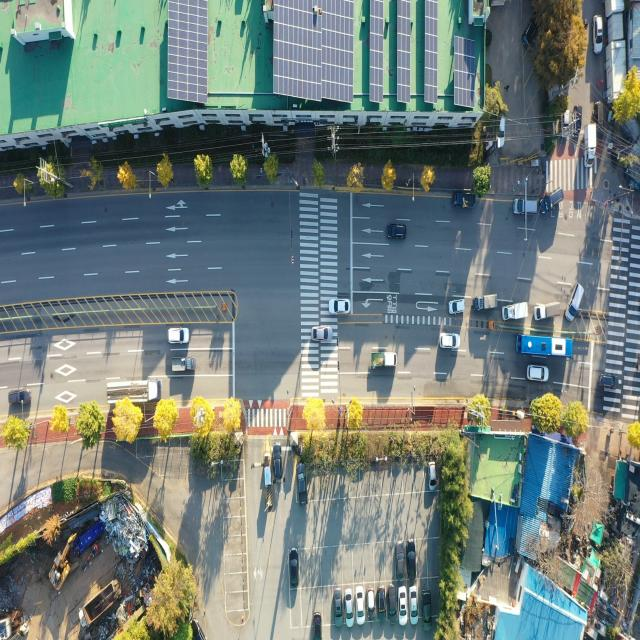car: (540, 186, 566, 218), (566, 280, 585, 323), (522, 16, 538, 50), (296, 462, 308, 506), (512, 197, 537, 218), (495, 111, 506, 151), (406, 540, 416, 582), (592, 11, 602, 52), (595, 102, 605, 142), (333, 586, 343, 626), (395, 541, 405, 579), (421, 588, 430, 630), (345, 589, 355, 626), (376, 585, 386, 622), (327, 300, 350, 316), (311, 326, 337, 340), (169, 326, 189, 344), (290, 550, 299, 588), (386, 222, 406, 239), (528, 364, 548, 381), (440, 334, 460, 351), (273, 442, 282, 479), (8, 389, 28, 405), (572, 104, 582, 136), (388, 584, 396, 622), (398, 587, 406, 624), (356, 587, 364, 624), (366, 588, 375, 620), (429, 458, 437, 492), (411, 588, 418, 624), (561, 110, 570, 138), (450, 301, 465, 315), (314, 614, 322, 640), (600, 376, 616, 389)
large_bus: (516, 336, 574, 358)
medium_truck: (105, 374, 161, 406)
small_truck: (170, 353, 198, 375), (584, 118, 595, 172), (367, 350, 395, 370), (503, 301, 528, 323), (535, 301, 560, 323), (473, 293, 498, 313), (452, 193, 476, 210)
